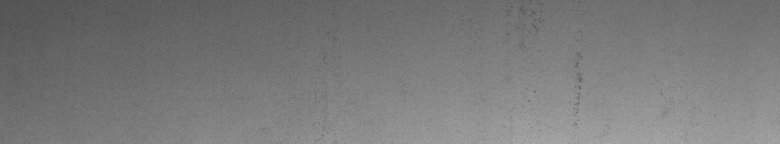ib: (508, 6, 583, 116)
